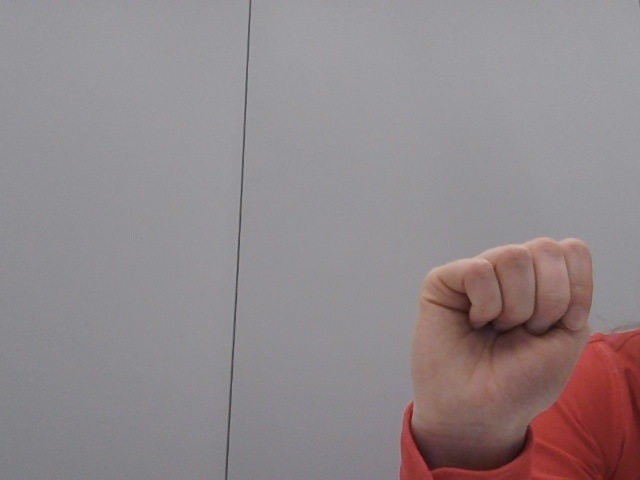down: (391, 222, 616, 480)
